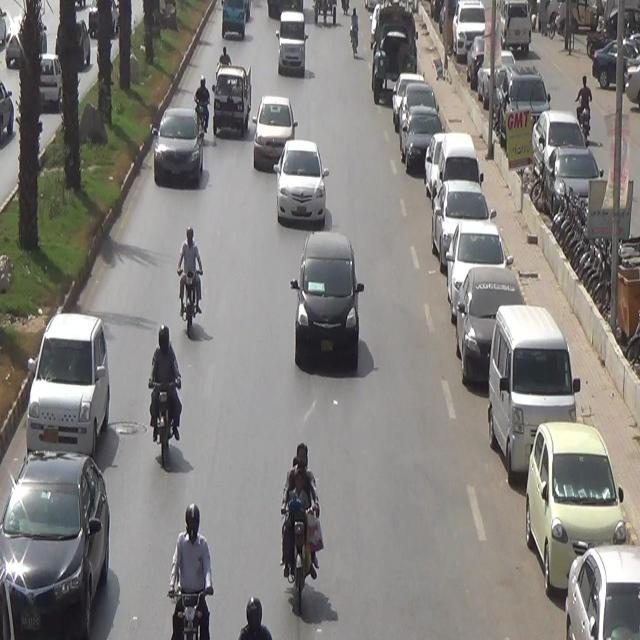car: (0, 453, 114, 640), (518, 415, 632, 588), (483, 297, 577, 493), (18, 311, 118, 464), (290, 222, 368, 394), (448, 269, 522, 388), (552, 548, 639, 640), (142, 89, 206, 195), (439, 218, 505, 312), (274, 134, 328, 234), (424, 127, 477, 211), (434, 190, 492, 256), (254, 94, 293, 174), (404, 103, 446, 172), (269, 9, 305, 76), (402, 86, 438, 152), (395, 72, 429, 128)
motorbike: (278, 425, 324, 617), (160, 489, 211, 640), (144, 318, 187, 470), (176, 228, 203, 346), (190, 68, 212, 140), (345, 4, 367, 55)
truck: (369, 0, 420, 105), (208, 61, 257, 142)
